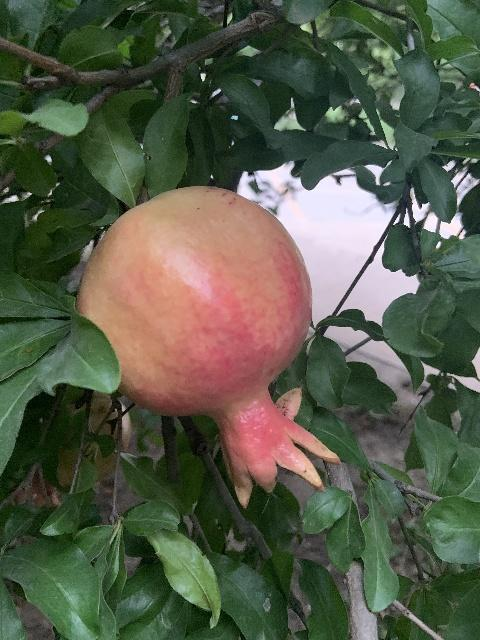ripe: (74, 185, 340, 506)
